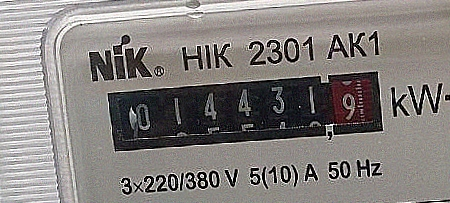0: (132, 98, 153, 132)
1: (167, 92, 187, 126), (304, 82, 318, 115)
3: (267, 83, 287, 116)
4: (198, 88, 221, 122), (233, 84, 252, 118)
9: (338, 89, 357, 120)
screen: (98, 62, 396, 159)
